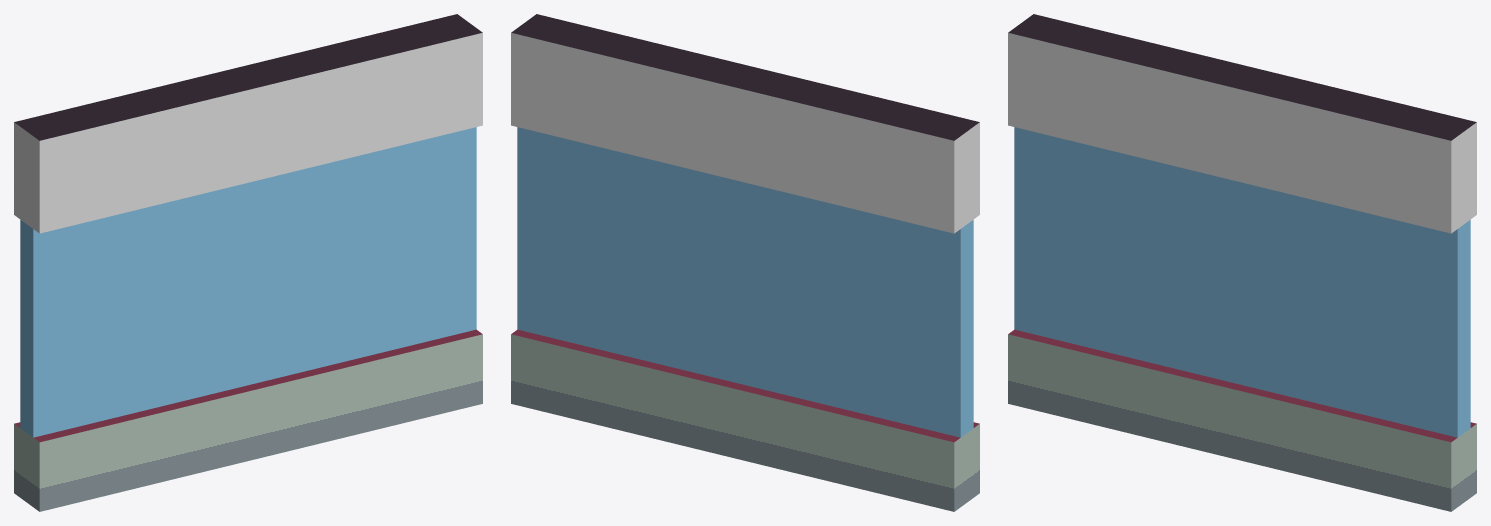
File: Modelo_ParedeJanela1.fbx
The picture shows the model from 3 angles, left to right: view 1: azimuth 30°, elevation 25°; view 2: azimuth 150°, elevation 25°; view 3: azimuth 330°, elevation 25°; orthographic projection.
Visible parts, largest first — view 1: cube.004, cube.003, cube.005; view 2: cube.004, cube.003, cube.005; view 3: cube.004, cube.003, cube.005.
Boxes of the visible parts, x1,y1,x2,y2 form: cube.004: (20, 127, 476, 437); cube.003: (14, 14, 482, 233); cube.005: (14, 329, 482, 511); cube.004: (517, 127, 973, 437); cube.003: (511, 14, 979, 233); cube.005: (511, 329, 979, 511); cube.004: (1014, 127, 1470, 437); cube.003: (1008, 14, 1476, 233); cube.005: (1008, 329, 1476, 511).
Bounding box in the file's own units: 200 × 160 × 20.
Materials: 2 (2 with a texture image).
